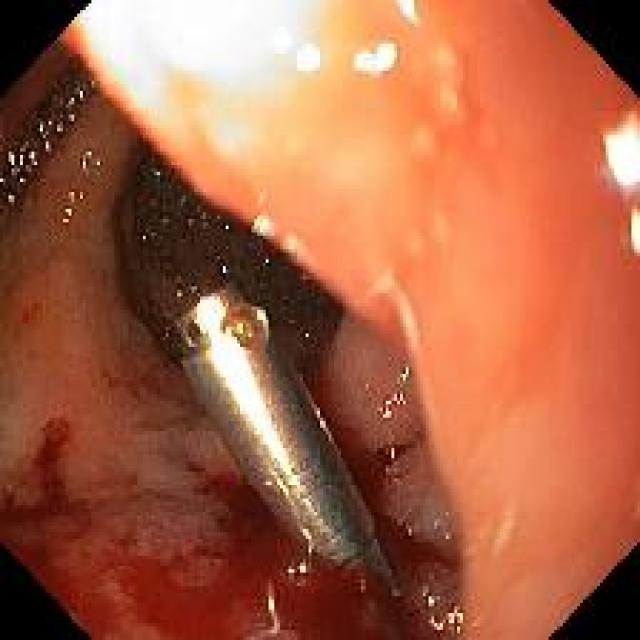blood: (1, 419, 423, 640), (298, 345, 460, 591), (377, 439, 420, 469)
instrument: (176, 283, 397, 591)
saturation: (77, 2, 317, 108)
specularity: (195, 301, 297, 489), (605, 114, 639, 192), (354, 43, 396, 75), (431, 608, 463, 635), (296, 48, 322, 75), (378, 397, 407, 421), (254, 217, 275, 239), (272, 473, 289, 500), (397, 2, 418, 23), (632, 211, 640, 252), (398, 368, 409, 387), (82, 151, 92, 170), (301, 529, 312, 544), (257, 312, 268, 327), (64, 208, 72, 225), (268, 597, 274, 614), (427, 597, 435, 608), (30, 152, 37, 164), (288, 568, 297, 576), (300, 566, 309, 574), (69, 96, 76, 106), (12, 167, 20, 175), (21, 147, 24, 166), (10, 154, 15, 165), (165, 326, 170, 337), (238, 325, 244, 334), (391, 449, 396, 459), (9, 195, 14, 203), (71, 192, 75, 202), (228, 328, 232, 338), (26, 167, 31, 173), (38, 127, 44, 132), (305, 335, 310, 341), (457, 630, 462, 636), (79, 92, 83, 99), (248, 333, 252, 340), (93, 81, 97, 88), (225, 227, 230, 232), (265, 259, 269, 265), (2, 177, 5, 184), (47, 144, 51, 149), (58, 127, 62, 132), (178, 293, 182, 298), (21, 177, 24, 183), (81, 195, 84, 201), (155, 171, 159, 175), (190, 220, 193, 225), (223, 269, 226, 274), (193, 288, 196, 293), (71, 116, 74, 120), (97, 161, 100, 165)
